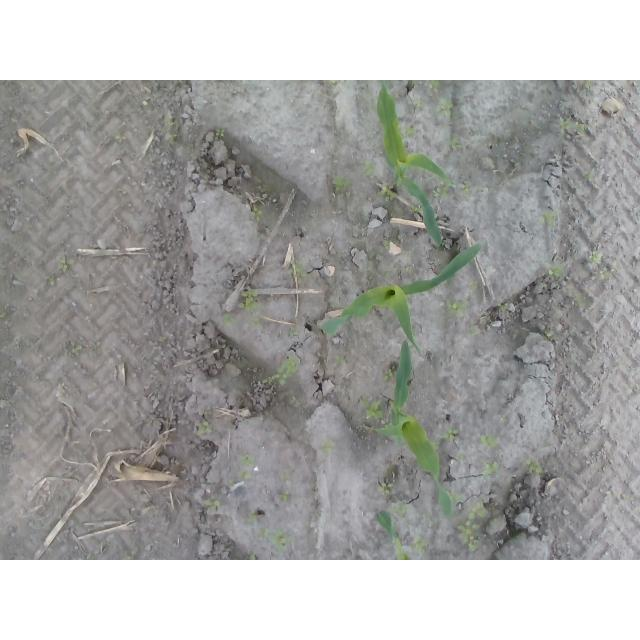Maize: (320, 240, 481, 353), (375, 338, 454, 520), (375, 85, 450, 248), (377, 509, 410, 560)
Weeds: (458, 501, 487, 552), (428, 80, 453, 120), (261, 356, 295, 385), (359, 397, 385, 419), (242, 287, 263, 313), (413, 536, 432, 560), (445, 297, 470, 315), (560, 114, 584, 130), (273, 529, 289, 551), (484, 463, 502, 481), (333, 175, 353, 189), (55, 255, 70, 273), (434, 184, 450, 200), (449, 133, 463, 151), (392, 505, 408, 520), (379, 183, 394, 198), (204, 496, 221, 509), (196, 420, 213, 432), (363, 160, 375, 177), (321, 441, 334, 456), (252, 205, 265, 220), (381, 482, 396, 495), (383, 368, 394, 385), (480, 435, 497, 446), (529, 462, 544, 474), (244, 514, 257, 527), (544, 210, 556, 224), (445, 430, 457, 442), (292, 261, 305, 272), (241, 454, 255, 464), (551, 264, 562, 276), (278, 491, 289, 502), (239, 470, 253, 478), (334, 355, 345, 365), (215, 128, 226, 137), (590, 252, 600, 261), (500, 302, 509, 310), (407, 128, 415, 137), (465, 184, 472, 193)
